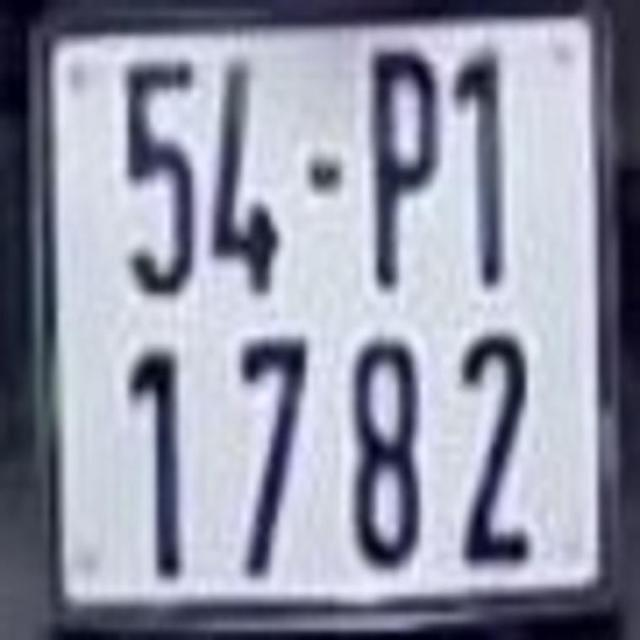1: (450, 46, 519, 289), (128, 348, 190, 580)
2: (457, 330, 535, 567)
4: (211, 56, 282, 296)
5: (122, 58, 197, 296)
7: (237, 333, 309, 580)
8: (351, 339, 423, 568)
P: (368, 44, 442, 293)
